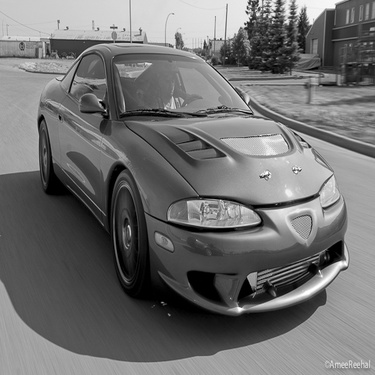car: (26, 32, 355, 331)
